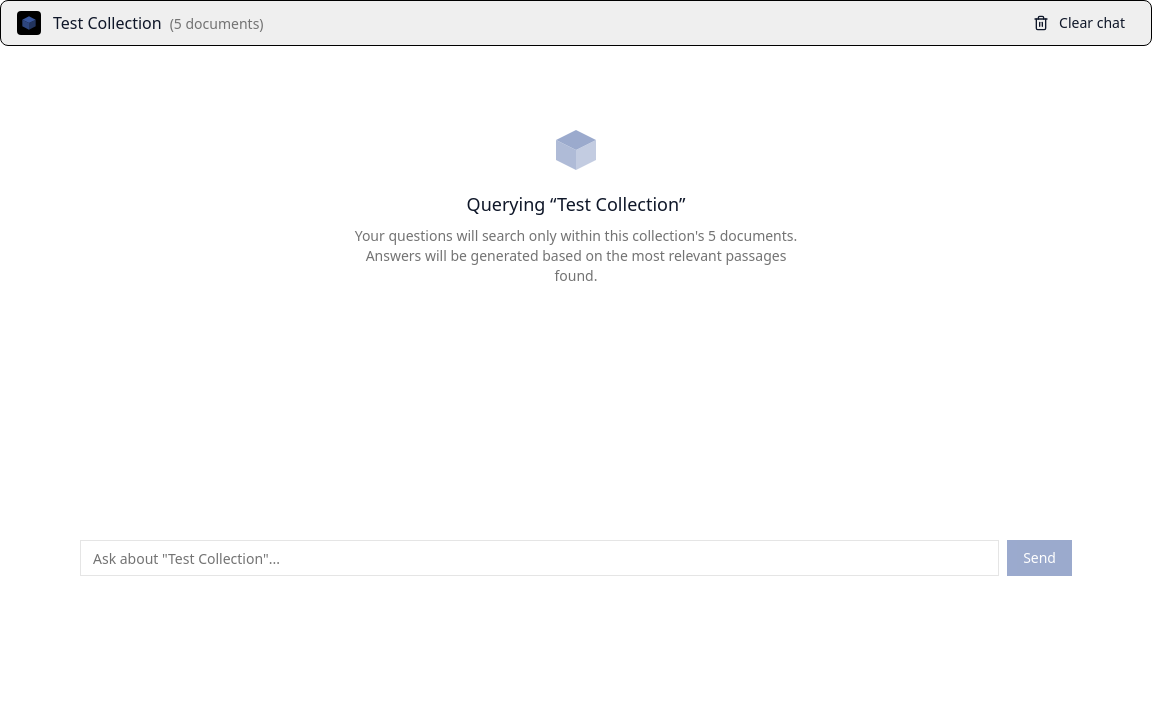
Test case: ChatPage Trace Inspector › should open trace inspector sheet when "View trace" is clicked
# Submit a query to generate a message with trace_id
Type "Hello" into the field named "Ask a question" at point(540, 558), box [80,540,999,576]
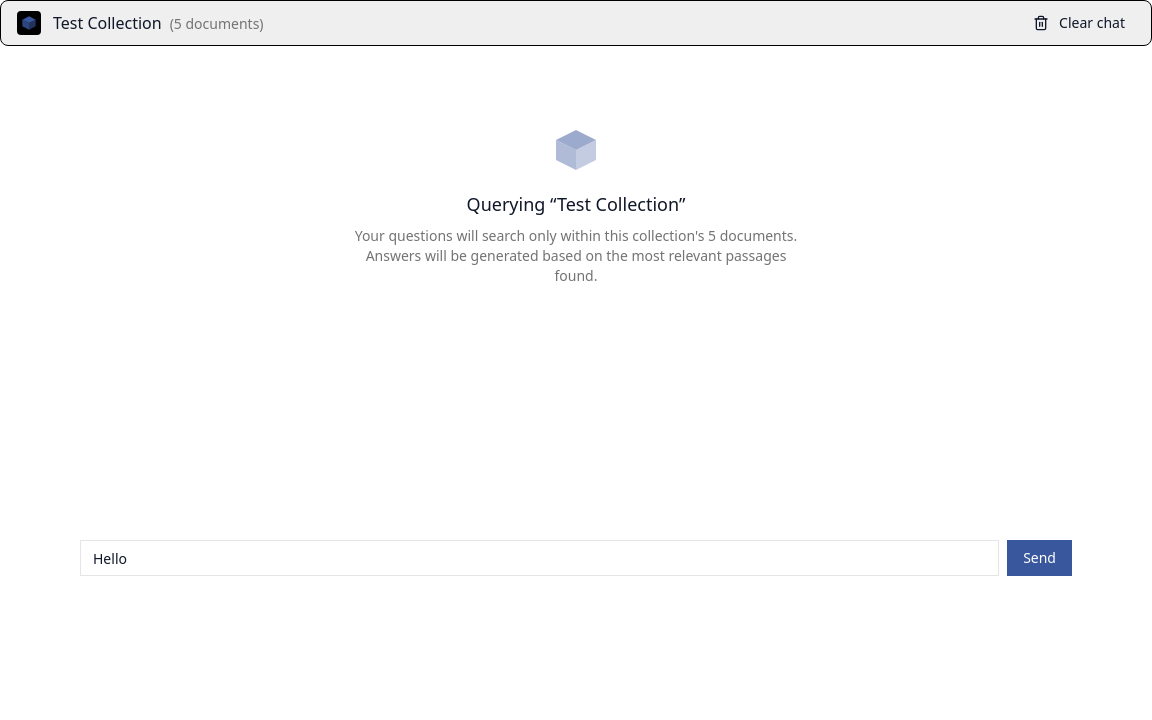
Submit the form from the button "Send", box [1007,540,1072,576]
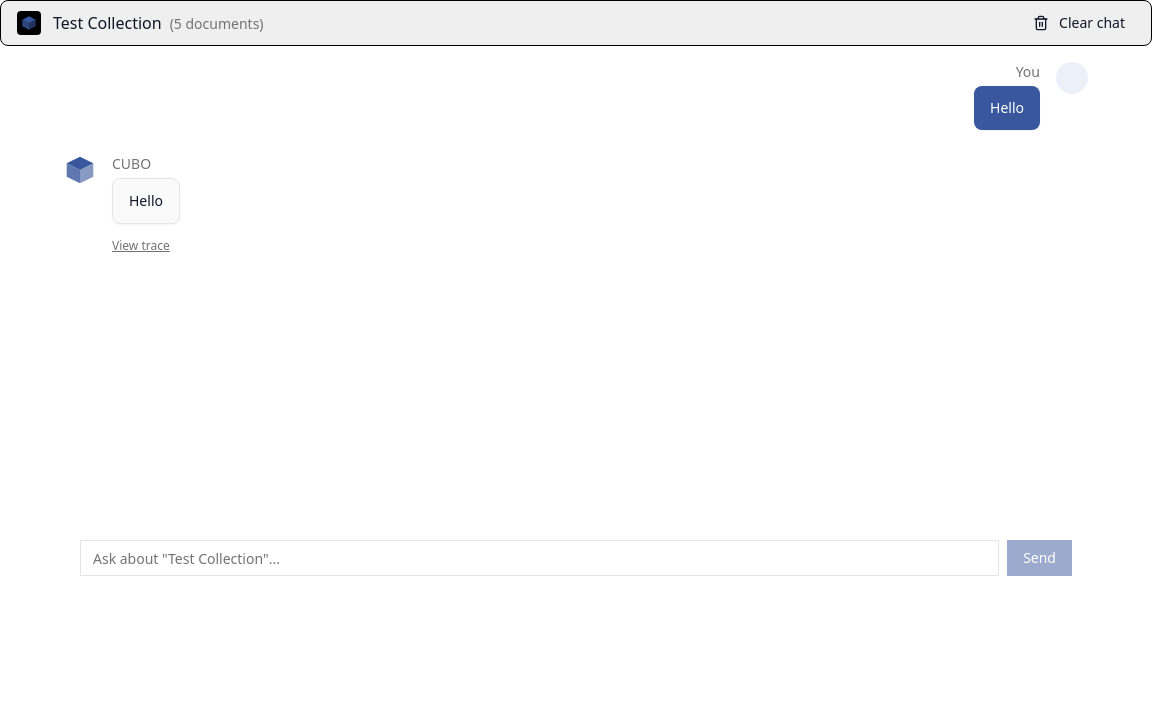
expect the button "View trace" is shown: met
# Click "View trace"
Click the button "View trace" at point(141, 246), box [112,238,170,254]
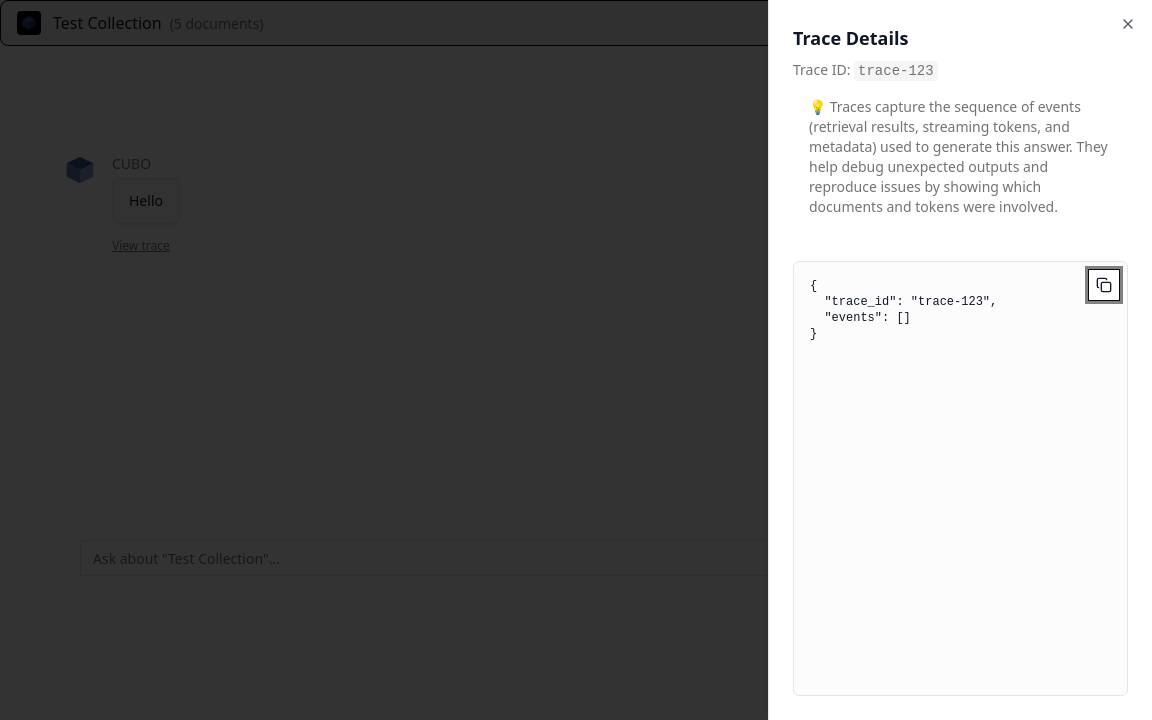
expect the heading "Trace Details" is shown: met, box [793,26,908,50]
expect the text "trace-123" is shown: met, box [854,61,938,81]
